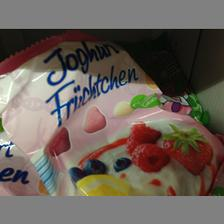Suessigkeit: (0, 33, 220, 194)
